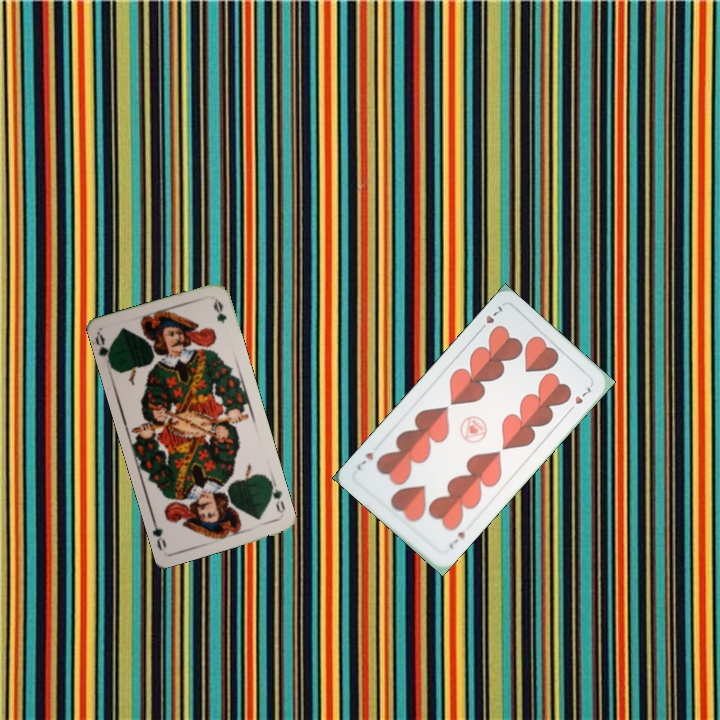GO: (92, 331, 116, 371), (266, 477, 288, 516)
H7: (474, 302, 505, 335), (445, 527, 468, 551)
